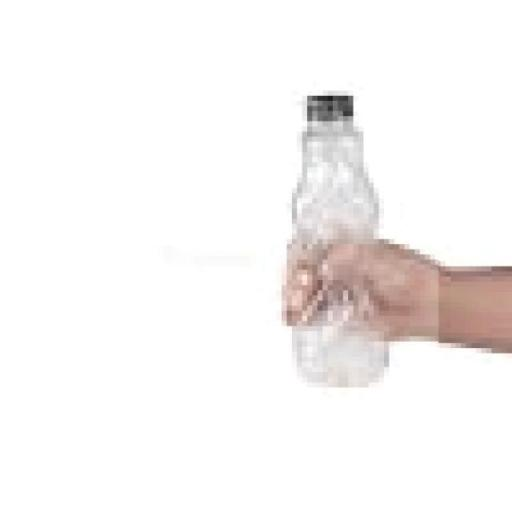bottle: (258, 65, 468, 422)
